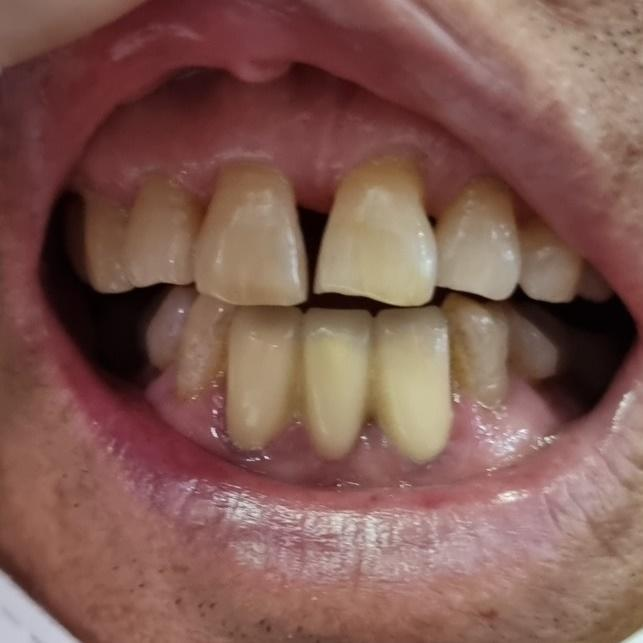Gap: (198, 167, 415, 297)
